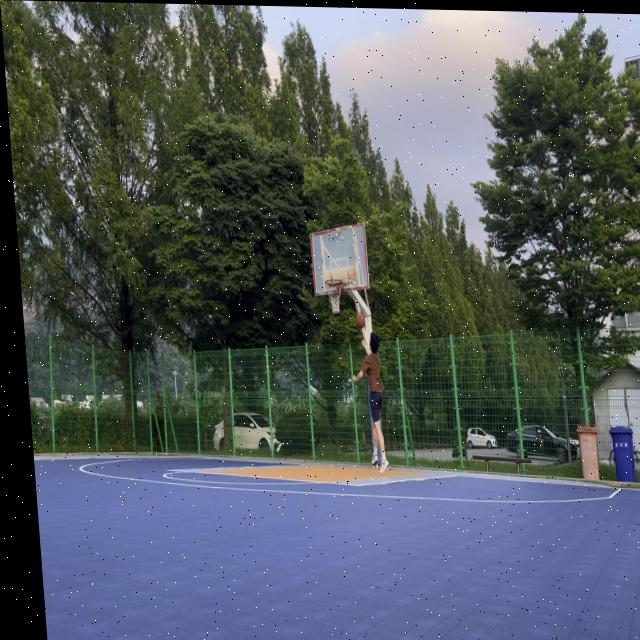basketball: (355, 313, 366, 329)
hoop: (325, 278, 345, 316)
